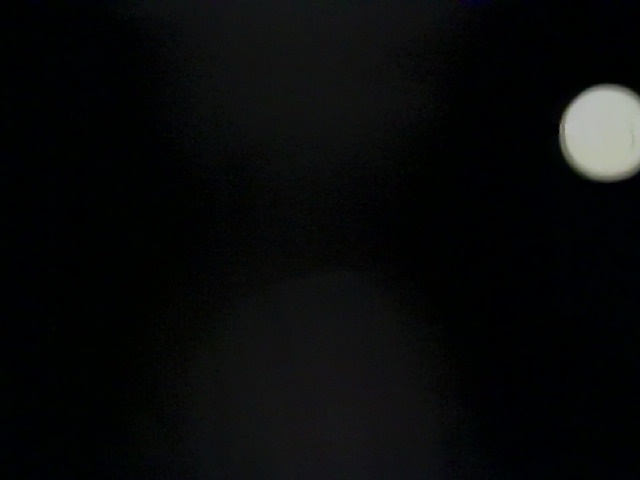CYLJ: (1, 218, 259, 478)
